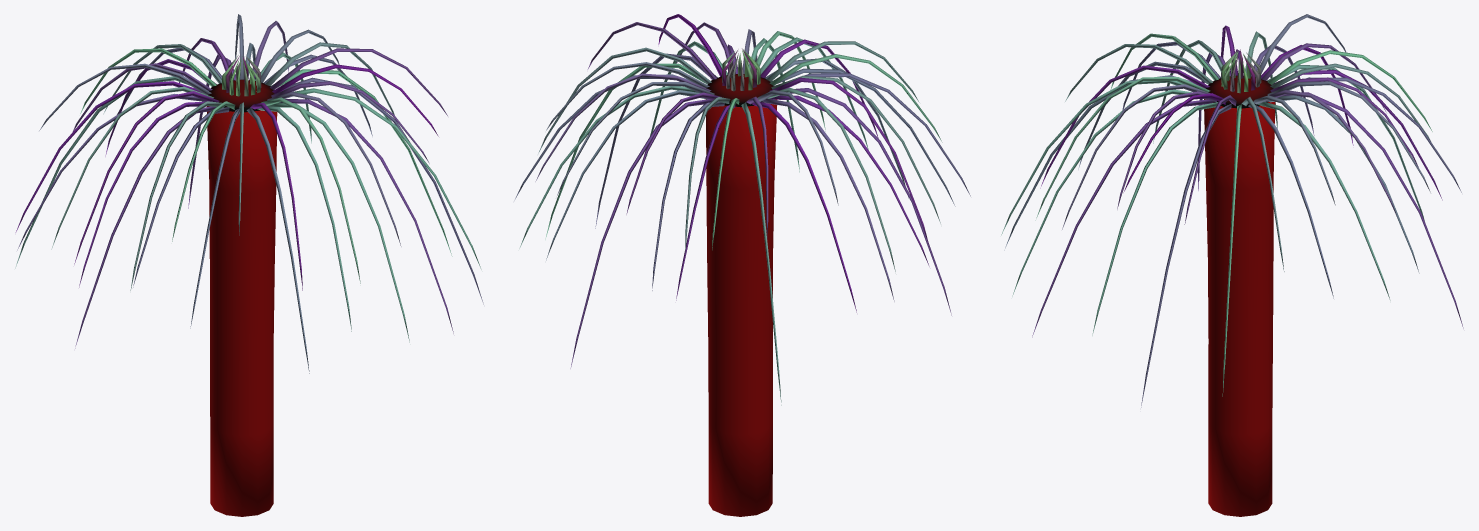
The model's file is anemone_tube_game.glb.
3 views of the same model, side by side, from view 1: azimuth 30°, elevation 25°; view 2: azimuth 150°, elevation 25°; view 3: azimuth 270°, elevation 25° (orthographic).
Visible parts, largest first — view 1: anemone_tube_game; view 2: anemone_tube_game; view 3: anemone_tube_game.
Part boxes in pixels (bbox=[...]): anemone_tube_game: bbox=[15, 14, 483, 516]; anemone_tube_game: bbox=[514, 14, 970, 516]; anemone_tube_game: bbox=[1001, 14, 1463, 516].
Size of the model in its own units: 0.285 by 0.3132 by 0.2903.
